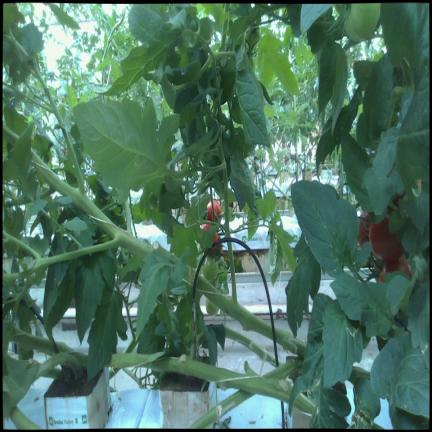6kp_petiole: (214, 256, 251, 332), (60, 158, 93, 217), (96, 214, 135, 254), (37, 158, 72, 198)
MainStem: (31, 147, 178, 265), (106, 353, 292, 404), (196, 274, 273, 341), (186, 390, 254, 429), (225, 326, 275, 367)
tomato: (369, 215, 403, 263), (345, 3, 380, 41), (202, 255, 218, 286), (359, 211, 371, 246), (200, 224, 218, 242), (207, 200, 221, 221), (206, 298, 218, 314)
